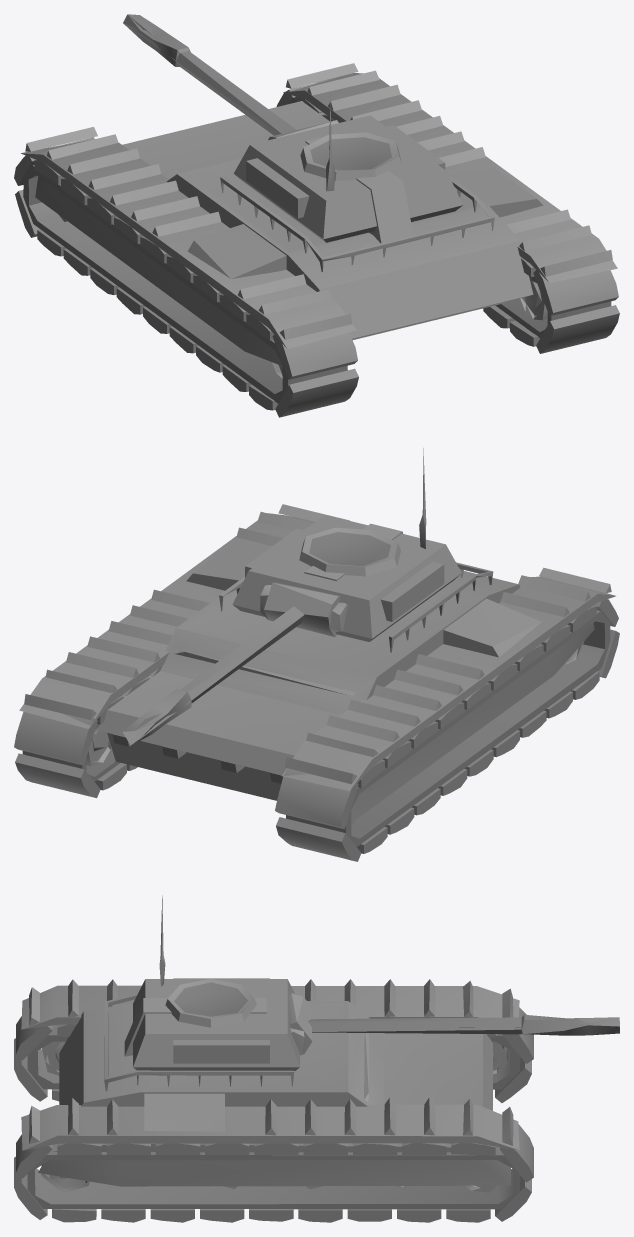
Rendered from charcoal_apc.glb.
3 views of the same model, one above another, from view 1: azimuth 30°, elevation 25°; view 2: azimuth 150°, elevation 25°; view 3: azimuth 270°, elevation 25° (orthographic). The views are drawn at different scales.
Visible parts, largest first — view 1: Body, Turret; view 2: Body, Turret; view 3: Body, Turret.
Boxes of the visible parts, left/top/right/bottom form: Body: left=14, top=63, right=619, bottom=417; Turret: left=123, top=14, right=296, bottom=135; Body: left=14, top=448, right=619, bottom=861; Turret: left=122, top=606, right=304, bottom=745; Body: left=14, top=895, right=533, bottom=1222; Turret: left=308, top=1014, right=619, bottom=1035.
Bounding box in the file's own units: 4.1 × 3.02 × 7.
Materials: 1 (1 with a texture image).
